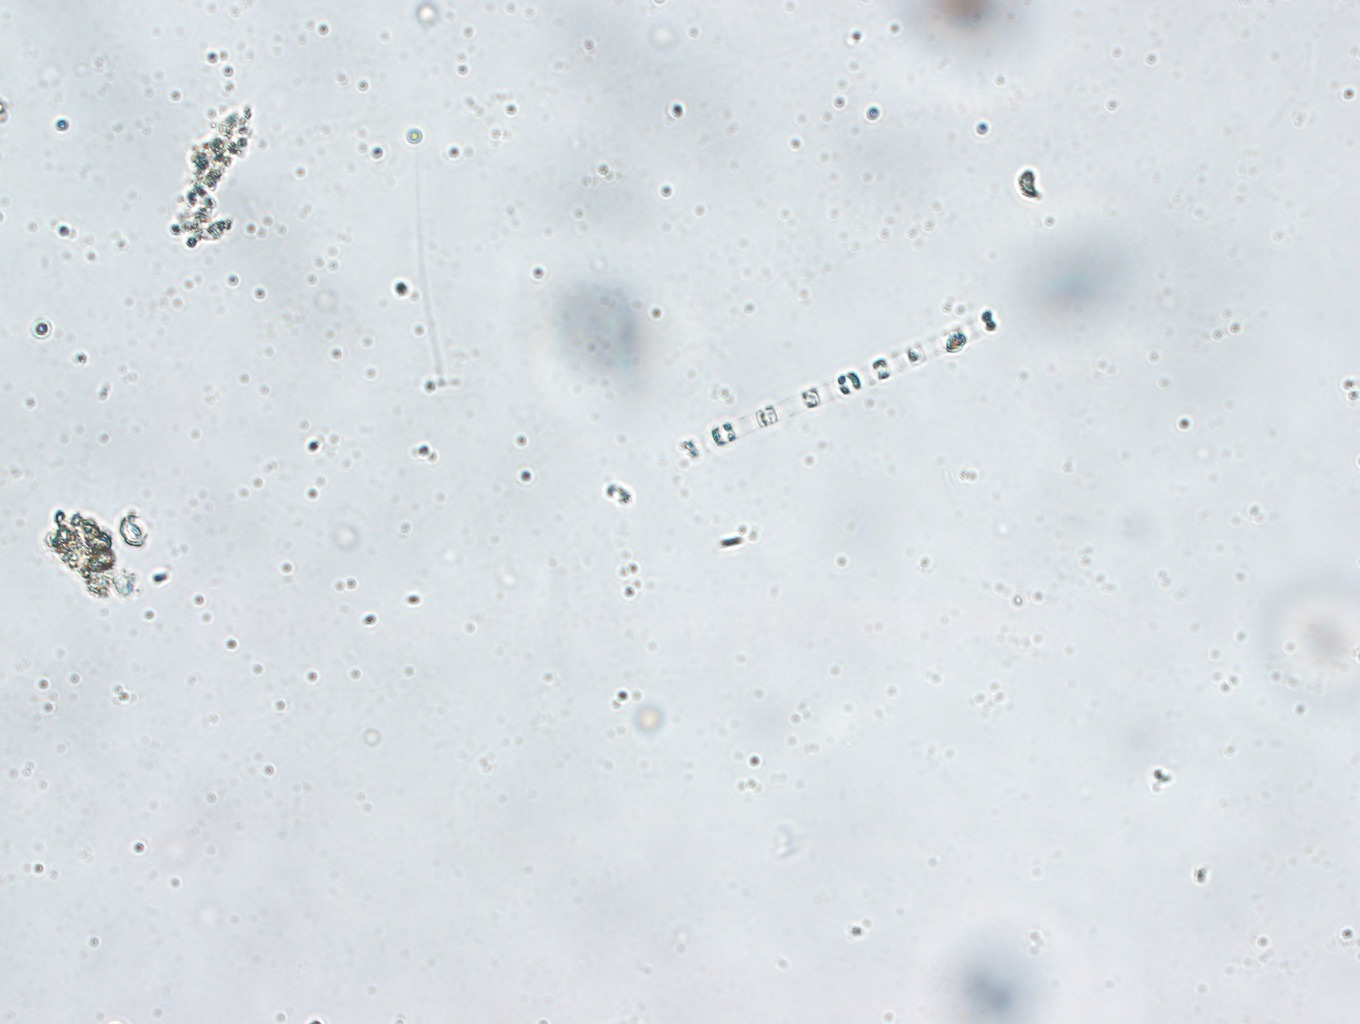skeletonema: (673, 309, 1005, 463)
